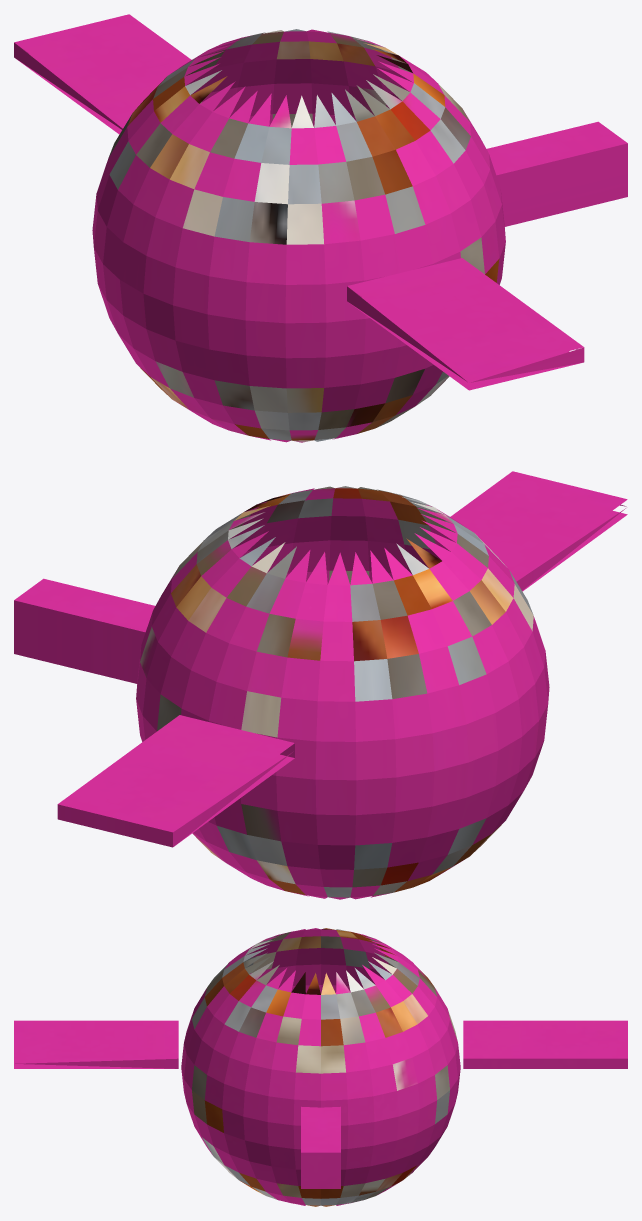
Rendered from pelican.glb.
The picture shows the model from 3 angles, top to bottom: view 1: azimuth 30°, elevation 25°; view 2: azimuth 150°, elevation 25°; view 3: azimuth 270°, elevation 25°; orthographic projection. The views are drawn at different scales.
Visible parts, largest first — view 1: pelican; view 2: pelican; view 3: pelican.
Boxes of the visible parts, <box> form: pelican: <box>14,14,627,442</box>; pelican: <box>14,471,627,899</box>; pelican: <box>14,928,627,1206</box>.
Size of the model in its own units: 0.77 by 0.5182 by 1.23.
Materials: 1 (1 with a texture image).
